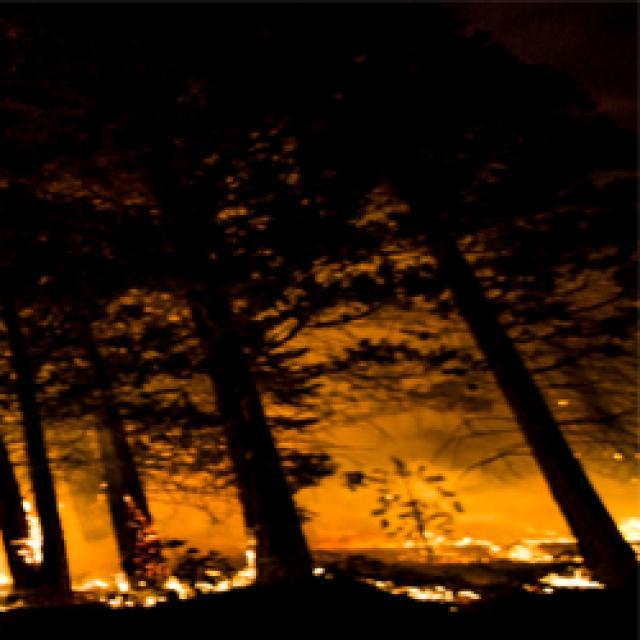Fire: (406, 526, 577, 570), (82, 572, 190, 620), (109, 494, 165, 570), (192, 544, 256, 602), (367, 580, 480, 604), (9, 493, 42, 566), (534, 571, 606, 601), (619, 515, 640, 563), (0, 572, 23, 609)
Smoke: (294, 334, 558, 518), (56, 466, 107, 564), (170, 478, 244, 534)
